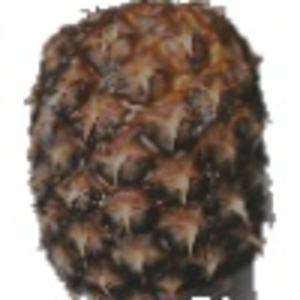abacaxi: (19, 2, 280, 299)
